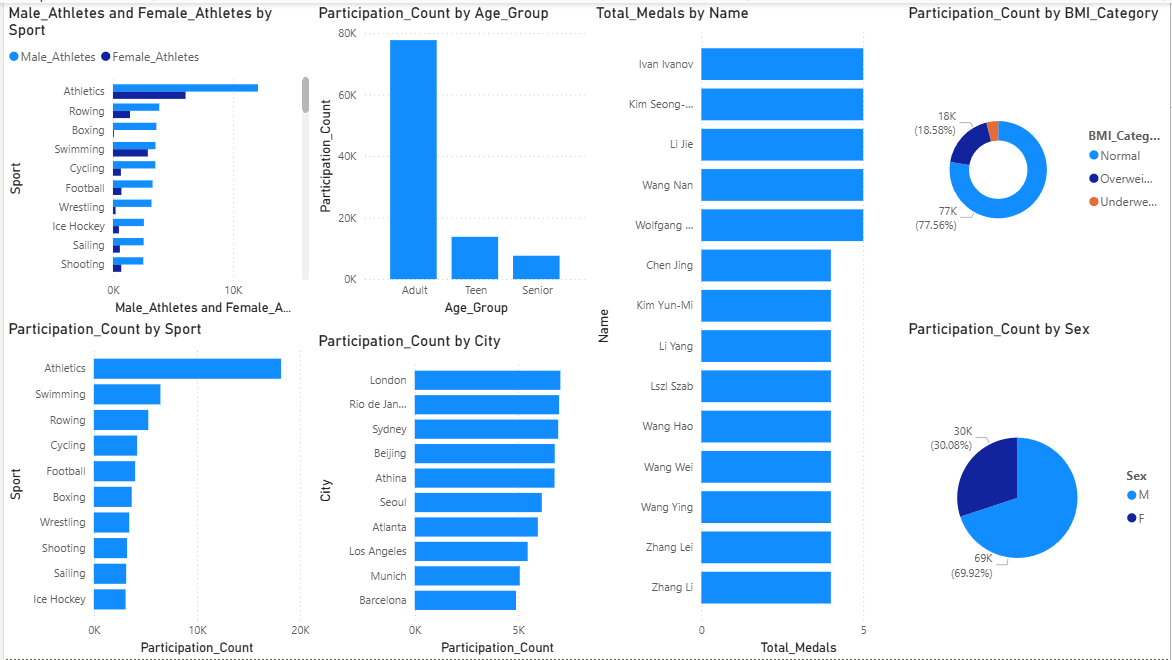

What the dashboard file says about the page in this screenshot:
{"tool":"powerbi","page":{"name":"Page 2","canvas":[1280,720],"ordinal":1},"visuals":[{"type":"pieChart","fields":{"Y":["athlete_events.Participation_Count"],"Category":["athlete_events.Sex"]},"box":[988,347.2,292.3,373.2],"z":0},{"type":"clusteredBarChart","fields":{"Category":["athlete_events.Sport"],"Y":["athlete_events.Male_Athletes","athlete_events.Female_Athletes"]},"box":[0,0,340.3,347.2],"z":1000},{"type":"donutChart","fields":{"Category":["athlete_events.BMI_Category"],"Y":["athlete_events.Participation_Count"]},"box":[988,0,292.3,347.2],"z":2000},{"type":"barChart","fields":{"Category":["athlete_events.Name"],"Y":["athlete_events.Total_Medals"]},"box":[644.9,0,343.1,720.4],"z":3000},{"type":"columnChart","fields":{"Category":["athlete_events.Age_Group"],"Y":["athlete_events.Participation_Count"]},"box":[340.3,0,304.6,347.2],"z":4000},{"type":"barChart","fields":{"Category":["athlete_events.Sport"],"Y":["athlete_events.Participation_Count"]},"box":[0,347.2,340.3,373.2],"z":5000},{"type":"barChart","fields":{"Category":["athlete_events.City"],"Y":["athlete_events.Participation_Count"]},"box":[340.3,360.9,304.6,359.5],"z":6000}]}

Visuals, with their boxes in screenshot pixels (x1, y1, x2, y2), scaled from the page's 1280x720 canvas onto the 1172x660 screenshot:
pieChart - athlete_events.Participation_Count x athlete_events.Sex: detection(905, 318, 1171, 659)
clusteredBarChart - athlete_events.Sport x athlete_events.Male_Athletes: detection(0, 0, 312, 318)
donutChart - athlete_events.BMI_Category x athlete_events.Participation_Count: detection(905, 0, 1171, 318)
barChart - athlete_events.Name x athlete_events.Total_Medals: detection(590, 0, 905, 659)
columnChart - athlete_events.Age_Group x athlete_events.Participation_Count: detection(312, 0, 590, 318)
barChart - athlete_events.Sport x athlete_events.Participation_Count: detection(0, 318, 312, 659)
barChart - athlete_events.City x athlete_events.Participation_Count: detection(312, 331, 590, 659)
